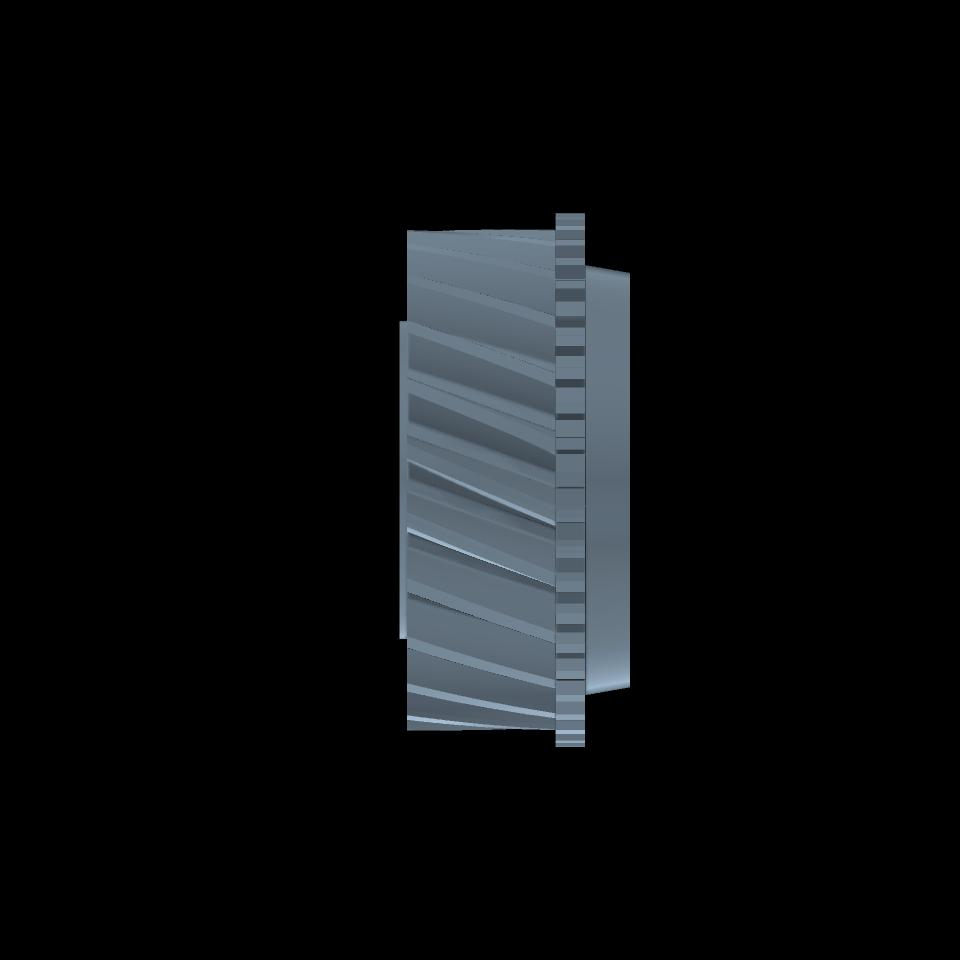Helical: (406, 230, 554, 728)
Straight: (555, 212, 585, 748)
